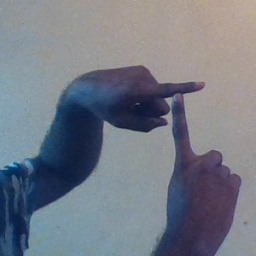T: (129, 57, 224, 175)
